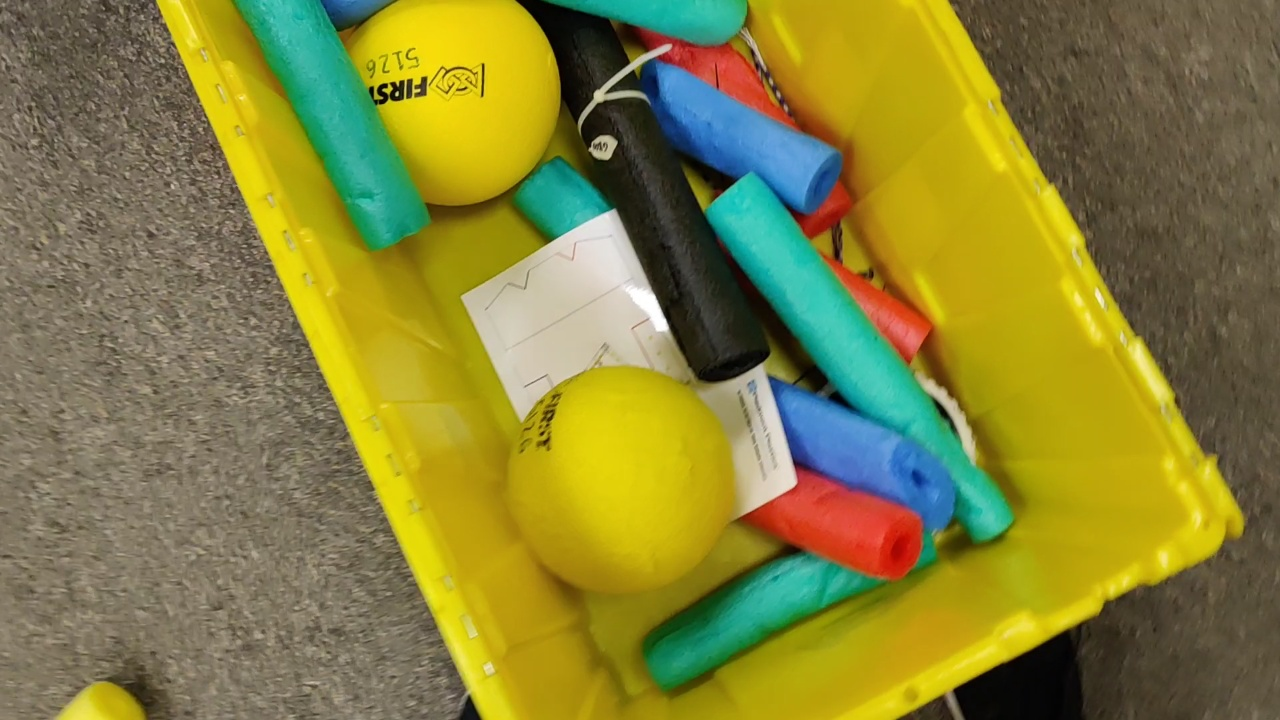Ball: (509, 367, 734, 595), (338, 1, 563, 207)
